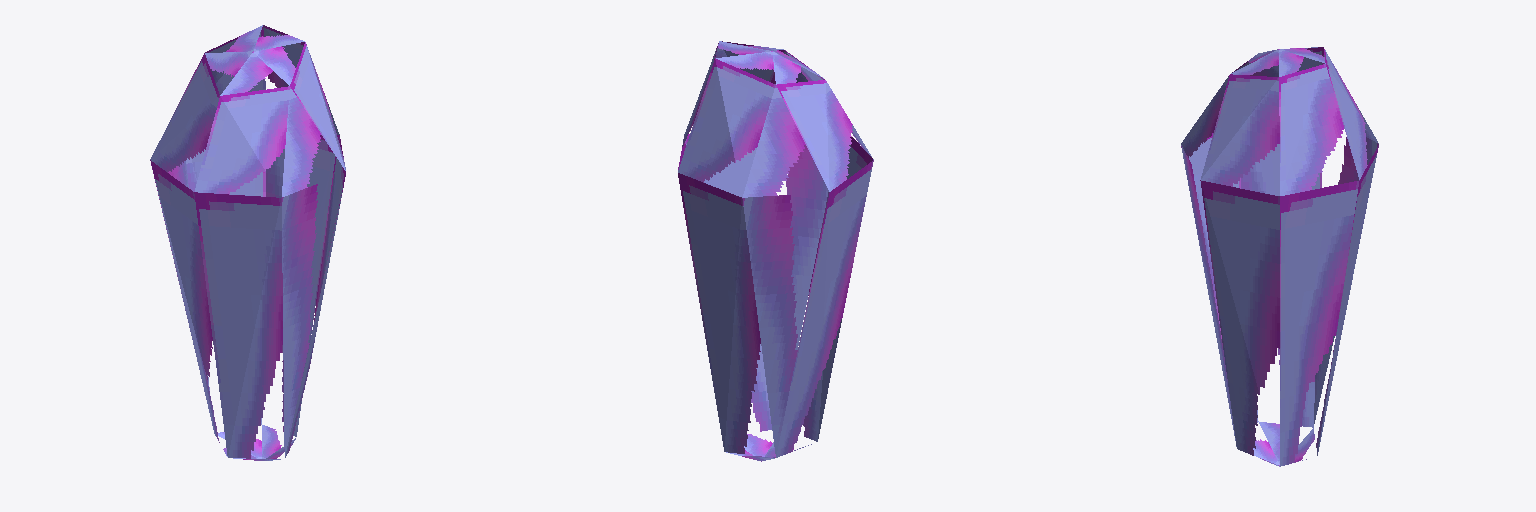
3 views of the same model, side by side, from view 1: azimuth 30°, elevation 25°; view 2: azimuth 150°, elevation 25°; view 3: azimuth 270°, elevation 25° (orthographic).
Parts seen in each view (by area): view 1: Crystal; view 2: Crystal; view 3: Crystal.
Boxes of the visible parts, x1=… form: Crystal: x1=150, y1=25, x2=345, y2=460; Crystal: x1=678, y1=41, x2=873, y2=461; Crystal: x1=1181, y1=47, x2=1378, y2=466.
Size of the model in its own units: 32.25 by 76.15 by 33.08.
1 materials, 1 textured.